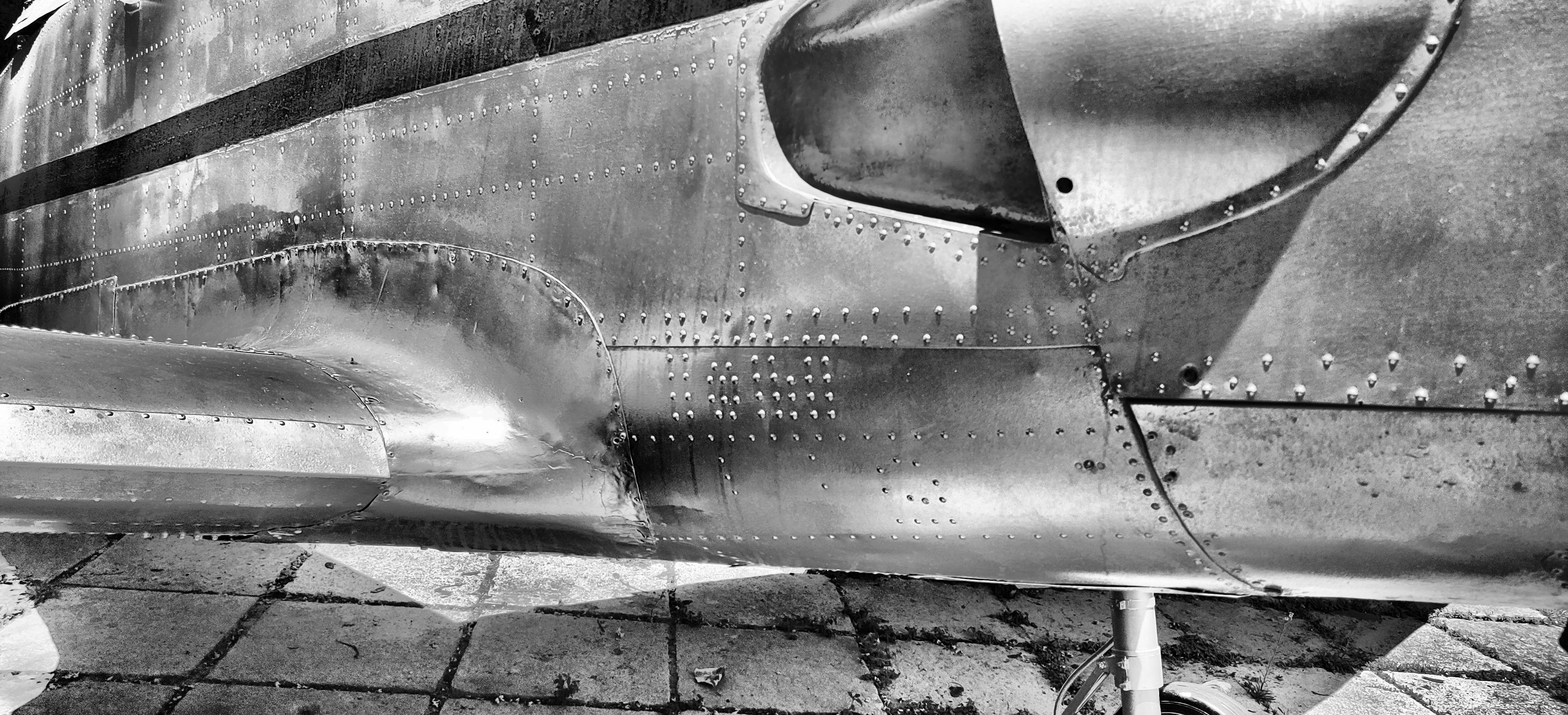crack: (635, 528, 648, 539), (637, 537, 646, 544)
dent: (593, 462, 657, 555), (100, 95, 143, 133), (647, 498, 707, 514)
missing-head: (1181, 364, 1202, 387), (1054, 176, 1075, 195), (612, 437, 621, 445), (286, 254, 292, 262), (623, 460, 629, 466)
